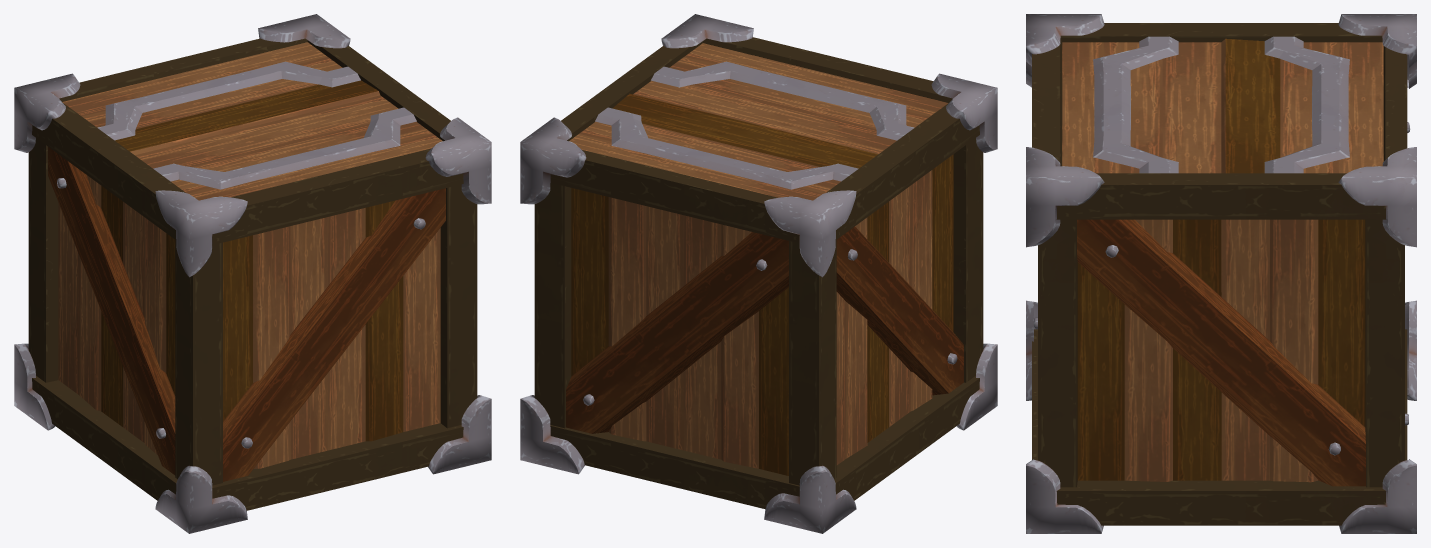
Rendered from Crate_Metal.gltf.
3 renders of one model, left to right at view 1: azimuth 30°, elevation 25°; view 2: azimuth 150°, elevation 25°; view 3: azimuth 270°, elevation 25°, orthographic. The views are drawn at different scales.
Visible parts, largest first — view 1: Crate_Metal; view 2: Crate_Metal; view 3: Crate_Metal.
Boxes of the visible parts, box(x1,y1,x2,y2) form: Crate_Metal: box(14, 14, 491, 533); Crate_Metal: box(520, 14, 997, 533); Crate_Metal: box(1026, 14, 1416, 533).
Bounding box in the file's own units: 0.8639 × 0.8679 × 0.8659.
2 materials, 2 textured.
